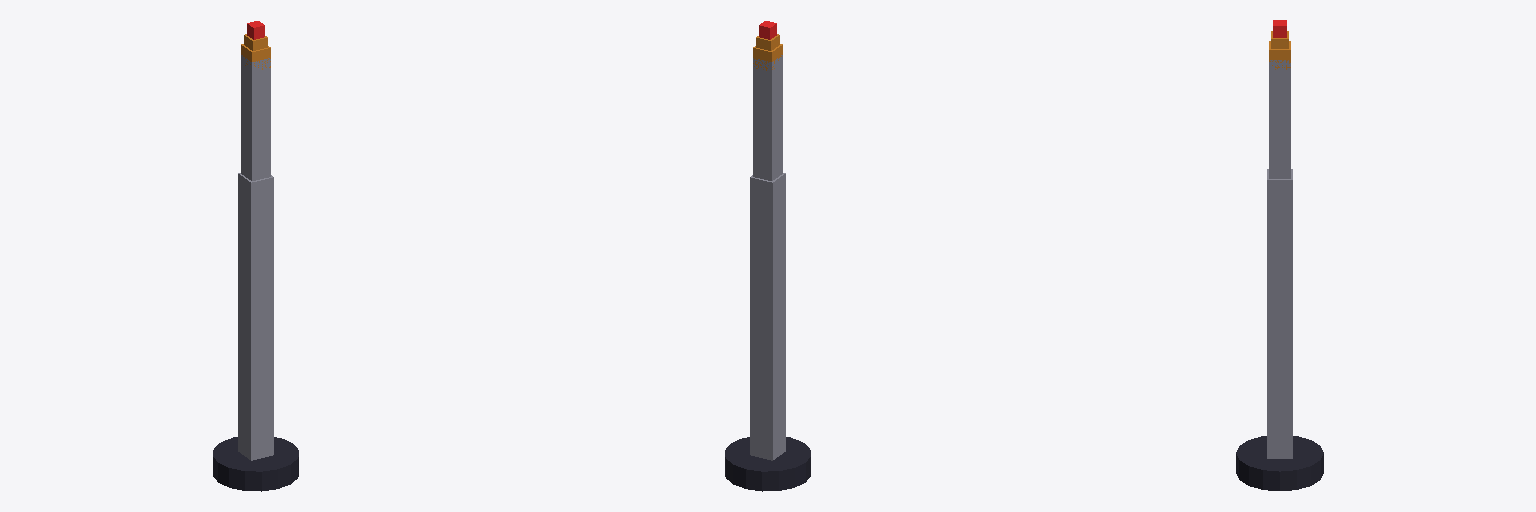
The robot description file, URDF, robot "mock_6dof":
<?xml version="1.0"?>
<robot name="mock_6dof">

  <link name="base">
    <visual>
      <geometry><mesh filename="meshes/base.stl"/></geometry>
      <material name="base_mat"><color rgba="0.2 0.2 0.25 1"/></material>
    </visual>
  </link>

  <joint name="j1" type="revolute">
    <parent link="base"/><child link="link1"/>
    <origin xyz="0 0 0.05" rpy="0 0 0"/>
    <axis xyz="0 0 1"/>
    <limit lower="-3.14" upper="3.14" effort="100" velocity="3"/>
  </joint>

  <link name="link1">
    <visual>
      <geometry><mesh filename="meshes/link1.stl"/></geometry>
      <material name="arm_mat"><color rgba="0.6 0.6 0.65 1"/></material>
    </visual>
  </link>

  <joint name="j2" type="revolute">
    <parent link="link1"/><child link="link2"/>
    <origin xyz="0 0 0.30" rpy="0 0 0"/>
    <axis xyz="0 1 0"/>
    <limit lower="-2.5" upper="2.5" effort="100" velocity="3"/>
  </joint>

  <link name="link2">
    <visual>
      <geometry><mesh filename="meshes/link2.stl"/></geometry>
      <material name="arm_mat"/>
    </visual>
  </link>

  <joint name="j3" type="revolute">
    <parent link="link2"/><child link="link3"/>
    <origin xyz="0 0 0.40" rpy="0 0 0"/>
    <axis xyz="0 1 0"/>
    <limit lower="-2.5" upper="2.5" effort="100" velocity="3"/>
  </joint>

  <link name="link3">
    <visual>
      <geometry><mesh filename="meshes/link3.stl"/></geometry>
      <material name="arm_mat"/>
    </visual>
  </link>

  <joint name="j4" type="revolute">
    <parent link="link3"/><child link="link4"/>
    <origin xyz="0 0 0.30" rpy="0 0 0"/>
    <axis xyz="1 0 0"/>
    <limit lower="-3.14" upper="3.14" effort="50" velocity="3"/>
  </joint>

  <link name="link4">
    <visual>
      <geometry><mesh filename="meshes/link4.stl"/></geometry>
      <material name="wrist_mat"><color rgba="0.85 0.55 0.2 1"/></material>
    </visual>
  </link>

  <joint name="j5" type="revolute">
    <parent link="link4"/><child link="link5"/>
    <origin xyz="0 0 0" rpy="0 0 0"/>
    <axis xyz="0 1 0"/>
    <limit lower="-2" upper="2" effort="50" velocity="3"/>
  </joint>

  <link name="link5">
    <visual>
      <geometry><mesh filename="meshes/link5.stl"/></geometry>
      <material name="wrist_mat"/>
    </visual>
  </link>

  <joint name="j6" type="revolute">
    <parent link="link5"/><child link="link6"/>
    <origin xyz="0 0 0" rpy="0 0 0"/>
    <axis xyz="1 0 0"/>
    <limit lower="-3.14" upper="3.14" effort="50" velocity="3"/>
  </joint>

  <link name="link6">
    <visual>
      <geometry><mesh filename="meshes/link6.stl"/></geometry>
      <material name="wrist_mat"/>
    </visual>
  </link>

  <joint name="tcp_joint" type="fixed">
    <parent link="link6"/><child link="tcp"/>
    <origin xyz="0 0 0.05" rpy="0 0 0"/>
  </joint>

  <link name="tcp">
    <visual>
      <geometry><mesh filename="meshes/tcp.stl"/></geometry>
      <material name="tcp_mat"><color rgba="0.95 0.2 0.2 1"/></material>
    </visual>
  </link>

</robot>

--- Render facts (derived) ---
3 views of the same robot in one strip: view 1: azimuth 30°, elevation 25°; view 2: azimuth 150°, elevation 25°; view 3: azimuth 270°, elevation 25° (orthographic).
Model mock_6dof with 8 links and 7 joints (6 revolute, 1 fixed), rooted at base, posed every joint at zero.
Visible links, largest first — view 1: link2, link1, link3, base; view 2: link2, link1, link3, base; view 3: link2, base, link1, link3.
Boxes of the visible links, <box> form: link2: <box>238,173,273,341</box>; link1: <box>238,332,273,460</box>; link3: <box>241,55,270,180</box>; base: <box>213,437,298,491</box>; link2: <box>750,173,785,341</box>; link1: <box>750,332,785,460</box>; link3: <box>753,55,782,180</box>; base: <box>725,437,810,491</box>; link2: <box>1267,169,1292,338</box>; base: <box>1236,436,1323,490</box>; link1: <box>1267,339,1292,458</box>; link3: <box>1269,60,1290,178</box>.
Size in the robot's own frame: 0.2 by 0.2 by 1.13 metres.
8 mesh visuals loaded from 8 distinct referenced files (8 binary STL).
